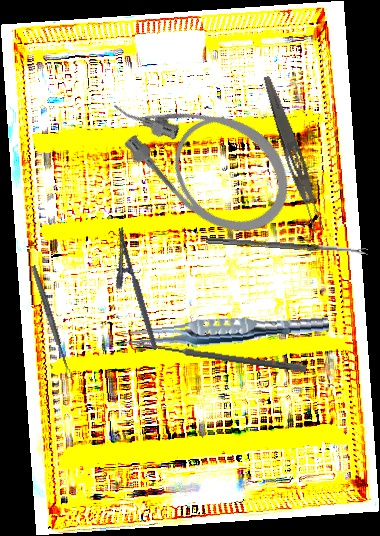Cannula: (91, 52, 313, 256)
Dressing Forceps: (255, 74, 329, 235)
Needle Holder: (100, 226, 159, 356)
Surgical Spoon: (130, 339, 307, 373), (29, 264, 74, 380), (205, 237, 369, 256)
Tissue Forceps: (121, 308, 330, 354)
